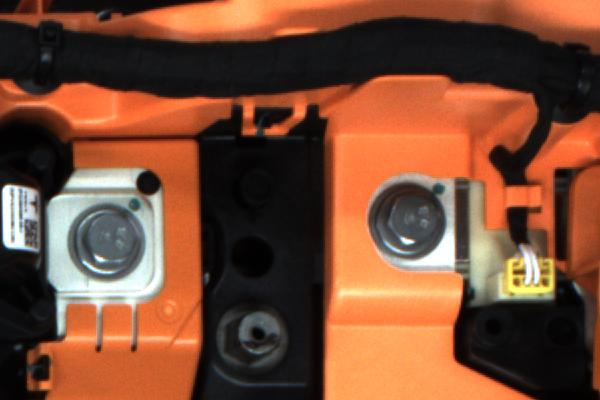nut_b: (360, 179, 455, 268), (64, 197, 152, 285)
